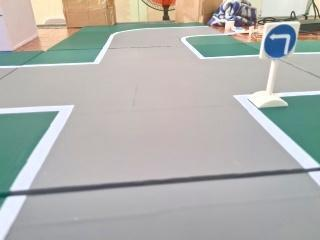left: (262, 21, 299, 58)
